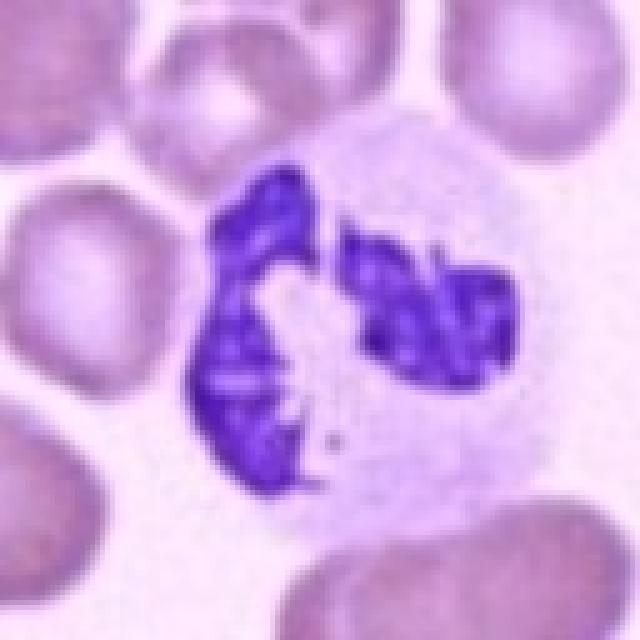neutro: (121, 138, 523, 501)
